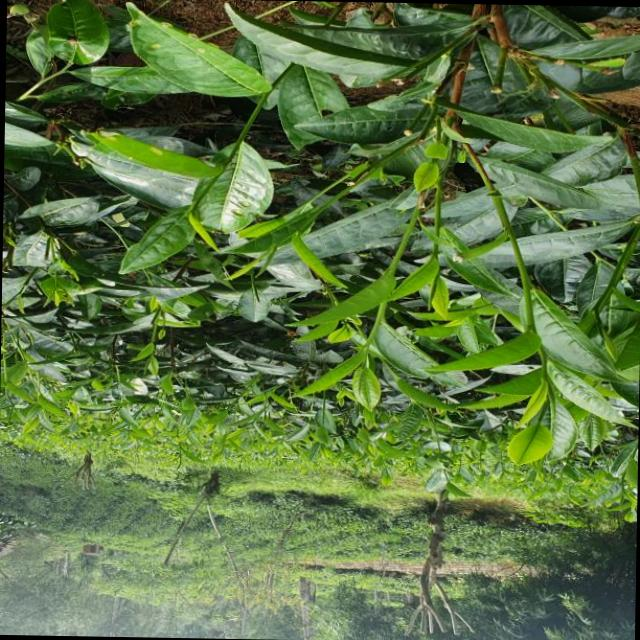Stem: (539, 369, 545, 378), (432, 245, 437, 252), (364, 340, 368, 344), (191, 205, 194, 209)
